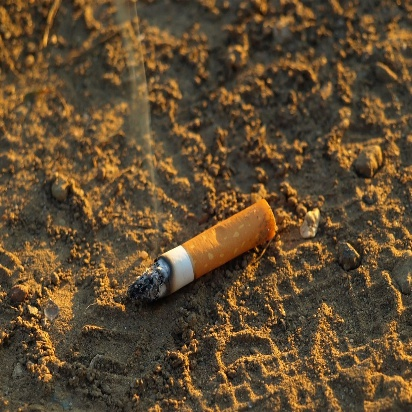cigarette: (131, 195, 284, 300)
